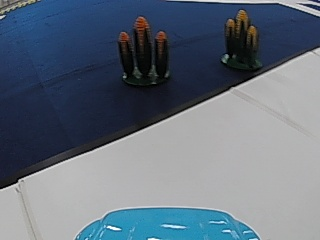corn: (116, 18, 171, 86), (221, 7, 262, 71)
